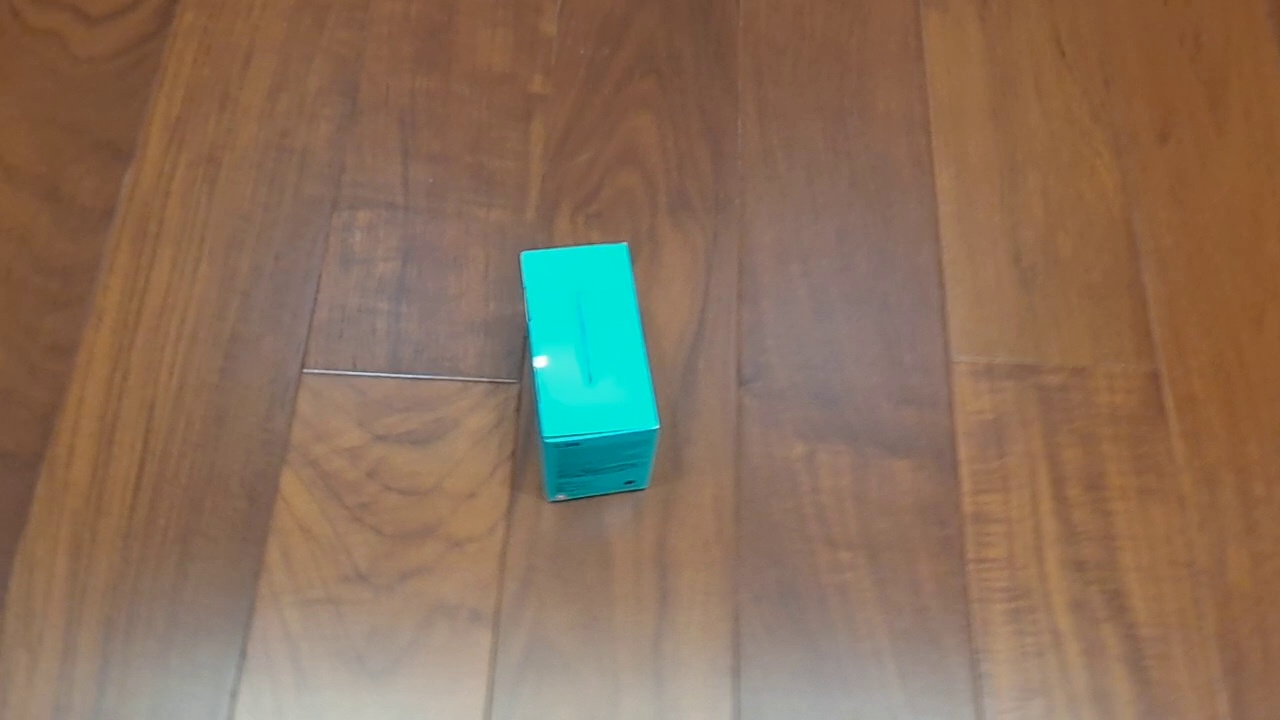webcam: (518, 241, 661, 503)
